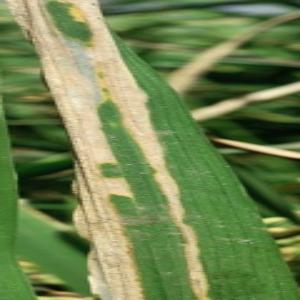2 BacterialBlight: (51, 2, 252, 300)
